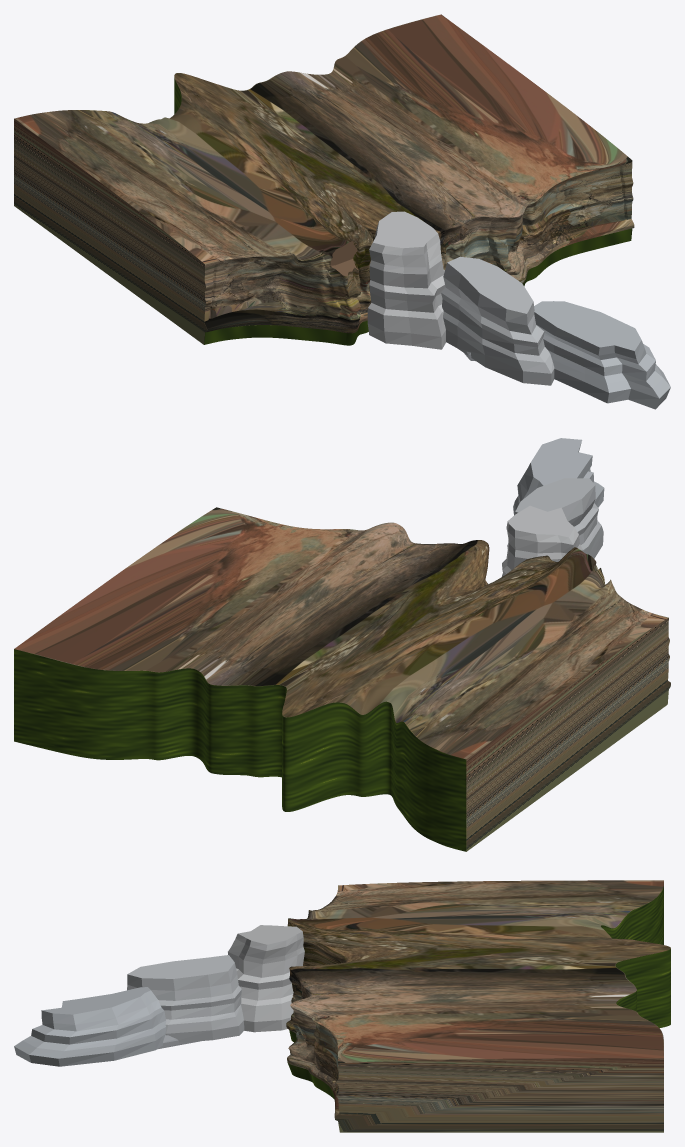
File: cliff-v3.glb
3 views of the same model, one above another, from view 1: azimuth 30°, elevation 25°; view 2: azimuth 150°, elevation 25°; view 3: azimuth 270°, elevation 25° (orthographic). The views are drawn at different scales.
Visible parts, largest first — view 1: V3 | protected ground and reconstructed shoreline; view 2: V3 | protected ground and reconstructed shoreline; view 3: V3 | protected ground and reconstructed shoreline.
Boxes of the visible parts, box(x1,y1,x2,y2) form: V3 | protected ground and reconstructed shoreline: box(14, 14, 670, 409); V3 | protected ground and reconstructed shoreline: box(14, 438, 670, 851); V3 | protected ground and reconstructed shoreline: box(14, 880, 670, 1132).
Bounding box in the file's own units: 40 × 9.78 × 62.44.
Materials: 6 (2 with a texture image).
